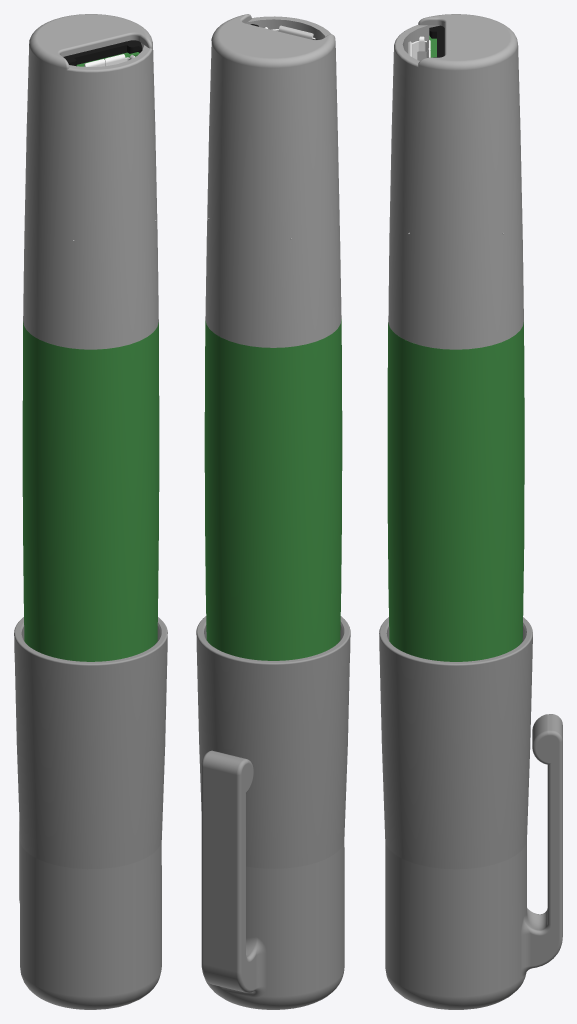
The model's file is Prototype1-B_GLB.glb.
3 views of the same model, side by side, from view 1: azimuth 30°, elevation 25°; view 2: azimuth 150°, elevation 25°; view 3: azimuth 270°, elevation 25° (orthographic).
Parts seen in each view (by area): view 1: Body3 1, Body8, Body9, Body15, Body25; view 2: Body3 1, Body8, Body9, Body15; view 3: Body3 1, Body8, Body9, Body15.
Boxes of the visible parts, bbox=[...] form: Body3 1: bbox=[14, 656, 167, 1009]; Body8: bbox=[22, 321, 159, 661]; Body9: bbox=[23, 14, 158, 349]; Body15: bbox=[14, 617, 167, 684]; Body25: bbox=[63, 40, 142, 66]; Body3 1: bbox=[197, 655, 349, 1009]; Body8: bbox=[204, 319, 342, 660]; Body9: bbox=[205, 14, 341, 347]; Body15: bbox=[196, 616, 350, 683]; Body3 1: bbox=[379, 654, 562, 1009]; Body8: bbox=[387, 322, 524, 661]; Body9: bbox=[388, 14, 523, 349]; Body15: bbox=[379, 617, 532, 684].
Size of the model in its own units: 0.0202 by 0.1375 by 0.0241.
